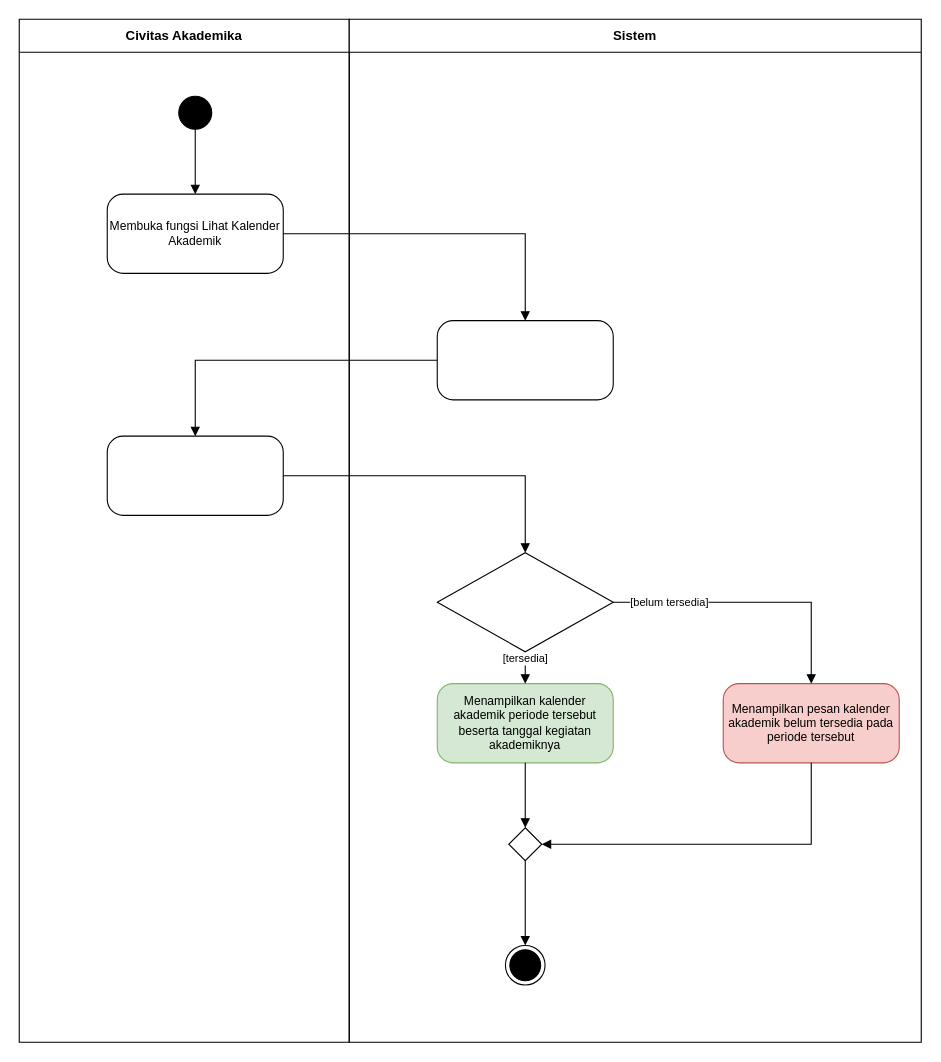
Image size: 941x1062. Some labels were removed from this diagram. Each missing label, with the centre of its shape:
Kalender akademik tersedia?: the point at 524,602
Memilih tahun akademik dan semester: the point at 194,475
Menampilkan daftar tahun akademik dan semester: the point at 524,360
